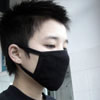face_mask: (23, 20, 69, 83)
